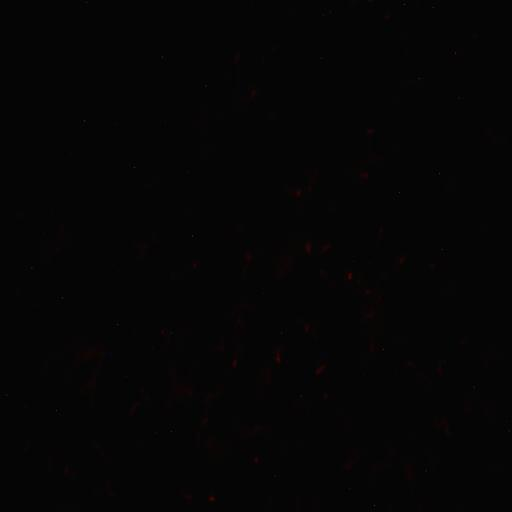microglia: (0, 4, 108, 144), (412, 88, 512, 234), (183, 42, 283, 177), (151, 336, 250, 448), (5, 182, 87, 298), (420, 8, 510, 110), (333, 417, 421, 486), (205, 406, 293, 467), (44, 328, 106, 413), (340, 261, 388, 362), (335, 127, 398, 197), (264, 232, 340, 278), (281, 155, 325, 225), (396, 344, 455, 391), (248, 337, 284, 402), (168, 251, 207, 285), (127, 232, 156, 262), (307, 358, 332, 381), (433, 416, 451, 437), (158, 326, 173, 346), (241, 251, 253, 275)
